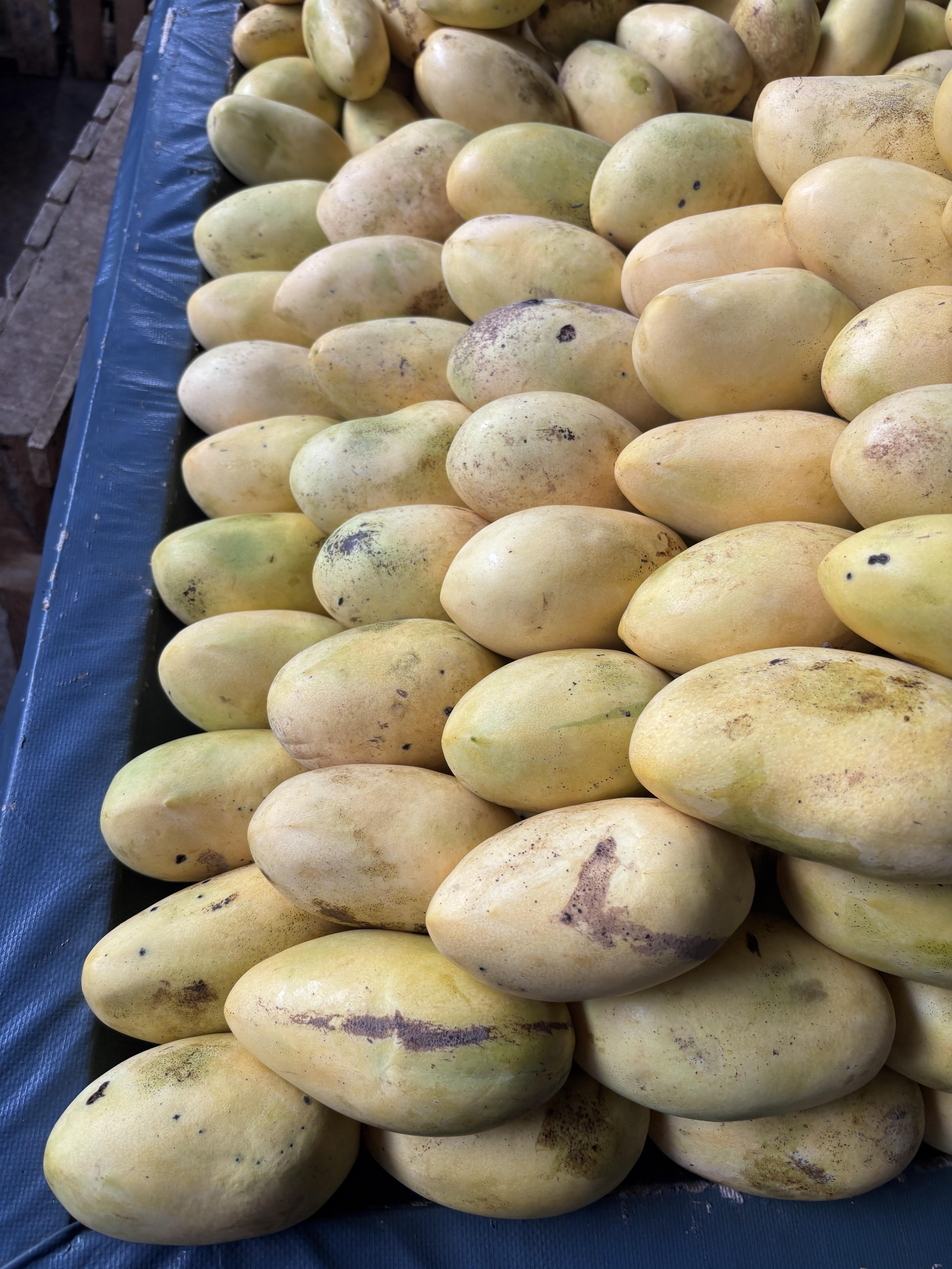mango: (426, 797, 754, 1002)
occluded: (630, 647, 952, 882), (225, 929, 574, 1135), (44, 1032, 360, 1246), (571, 913, 895, 1121), (82, 864, 344, 1043), (248, 764, 516, 934), (365, 1067, 649, 1219), (619, 521, 871, 674), (442, 648, 671, 814), (440, 505, 684, 659), (650, 1068, 924, 1201), (267, 619, 503, 771), (632, 268, 858, 419), (100, 729, 304, 884), (615, 410, 859, 539), (447, 298, 672, 431), (590, 113, 780, 251), (783, 157, 952, 309), (447, 392, 640, 520), (753, 76, 952, 197), (289, 400, 470, 533), (777, 854, 952, 988), (158, 609, 344, 731), (818, 515, 952, 676), (313, 504, 488, 626), (273, 235, 464, 343), (621, 204, 803, 316), (316, 118, 475, 243), (151, 512, 327, 624), (442, 214, 625, 321), (446, 122, 610, 230), (822, 286, 952, 420), (831, 384, 952, 527), (414, 28, 571, 133), (309, 317, 468, 419), (178, 340, 343, 434), (183, 414, 332, 517), (617, 3, 753, 115), (194, 179, 329, 278), (207, 94, 350, 186), (558, 40, 677, 145), (730, 0, 820, 118), (187, 271, 311, 349), (302, 0, 390, 100), (883, 975, 952, 1093), (234, 56, 342, 127), (810, 0, 904, 76), (526, 0, 637, 60), (343, 86, 420, 156), (371, 0, 442, 68), (232, 4, 305, 68), (469, 31, 557, 77), (893, 0, 950, 63), (420, 0, 539, 29), (885, 49, 952, 87), (922, 1085, 952, 1156), (933, 73, 952, 171), (683, 0, 738, 23), (945, 0, 952, 46), (362, 713, 362, 713)
